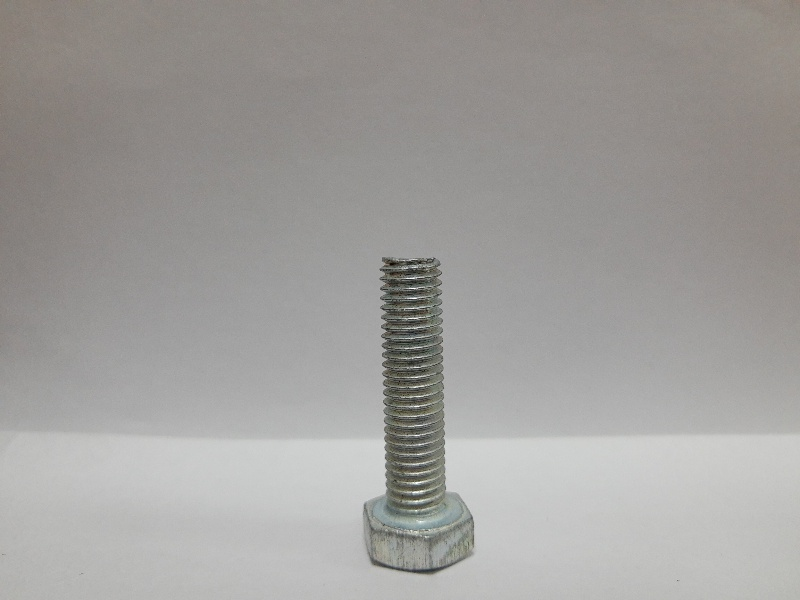pf: (359, 254, 483, 579)
